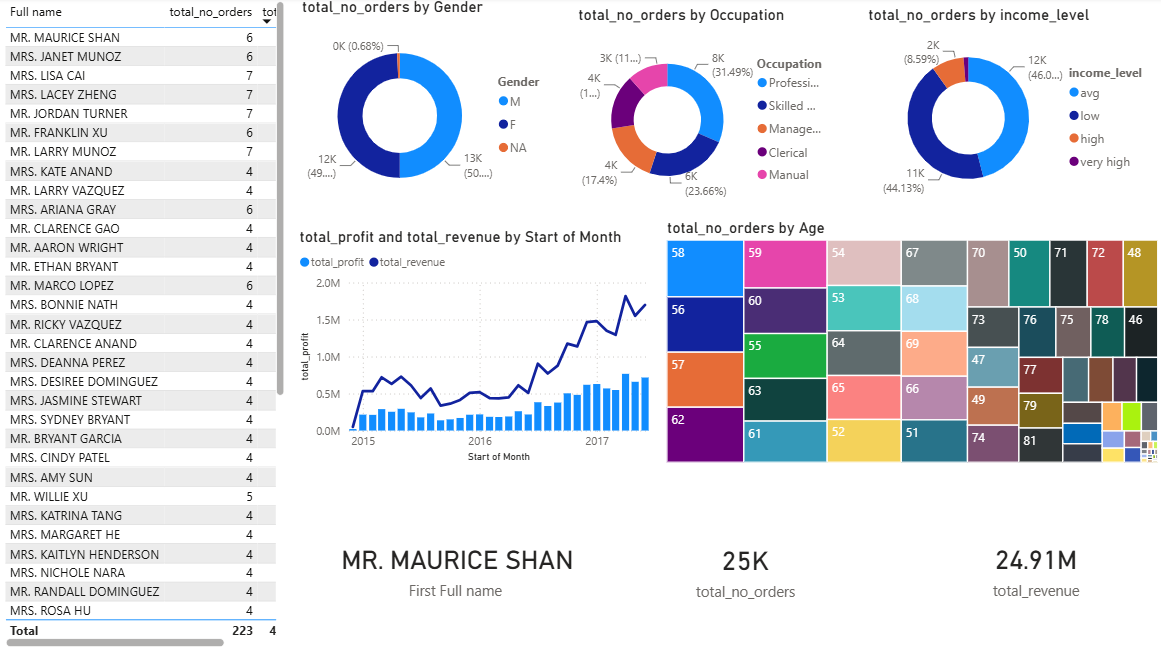

The page's visual inventory and layout, read from the dashboard file:
{"tool":"powerbi","page":{"name":"customer report ","canvas":[1280,720],"ordinal":2},"visuals":[{"type":"tableEx","fields":{"Values":["AW_Customers_lookup.Full name ","AW_sales_lookup.total_no_orders","AW_sales_lookup.total_revenue"]},"box":[0,0,317,718.2],"z":0},{"type":"donutChart","fields":{"Y":["AW_sales_lookup.total_no_orders"],"Category":["AW_Customers_lookup.Gender"]},"box":[326.6,0,290.9,241.5],"z":1000},{"type":"donutChart","fields":{"Y":["AW_sales_lookup.total_no_orders"],"Category":["AW_Customers_lookup.Occupation"]},"box":[629.8,9.6,290.9,231.9],"z":2000},{"type":"lineStackedColumnComboChart","fields":{"Y":["AW_sales_lookup.total_profit"],"Category":["AW_Calendar_lookup.Start of Month"],"Y2":["AW_sales_lookup.total_revenue"]},"box":[323.8,252.5,403.4,263.5],"z":3000},{"type":"treemap","fields":{"Values":["AW_sales_lookup.total_no_orders"],"Group":["AW_Customers_lookup.Age"]},"box":[727.3,242.9,548.9,273.1],"z":4000},{"type":"card","fields":{"Values":["Min(AW_Customers_lookup.Full name )"]},"box":[326.6,535.2,351.3,183.9],"z":5000},{"type":"card","fields":{"Values":["AW_sales_lookup.total_no_orders"]},"box":[716.3,536.5,204.5,183.9],"z":6000},{"type":"card","fields":{"Values":["AW_sales_lookup.total_revenue"]},"box":[999,535.2,277.2,183.9],"z":7000},{"type":"donutChart","fields":{"Y":["AW_sales_lookup.total_no_orders"],"Category":["AW_Customers_lookup.income_level"]},"box":[948.2,9.6,328,227.8],"z":8000}]}

Visuals, with their boxes in screenshot pixels (x1, y1, x2, y2), scaled from the page's 1280x720 canvas onto the 1161x647 screenshot:
tableEx - AW_Customers_lookup.Full name  x AW_sales_lookup.total_no_orders: bbox=[0, 0, 288, 645]
donutChart - AW_sales_lookup.total_no_orders x AW_Customers_lookup.Gender: bbox=[296, 0, 560, 217]
donutChart - AW_sales_lookup.total_no_orders x AW_Customers_lookup.Occupation: bbox=[571, 9, 835, 217]
lineStackedColumnComboChart - AW_sales_lookup.total_profit x AW_Calendar_lookup.Start of Month: bbox=[294, 227, 660, 464]
treemap - AW_sales_lookup.total_no_orders x AW_Customers_lookup.Age: bbox=[660, 218, 1158, 464]
card - Min(AW_Customers_lookup.Full name ): bbox=[296, 481, 615, 646]
card - AW_sales_lookup.total_no_orders: bbox=[650, 482, 835, 646]
card - AW_sales_lookup.total_revenue: bbox=[906, 481, 1158, 646]
donutChart - AW_sales_lookup.total_no_orders x AW_Customers_lookup.income_level: bbox=[860, 9, 1158, 213]
